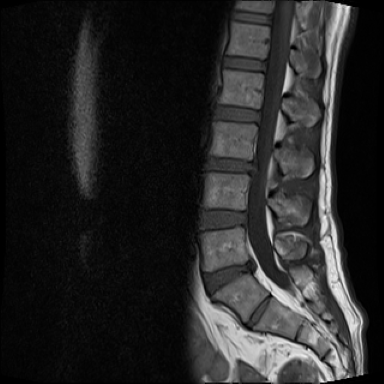Lumbar Disc Bulge (LDB): (192, 244, 262, 303), (200, 151, 273, 179)
Normal IVD: (192, 204, 251, 235), (206, 98, 264, 129), (219, 50, 268, 73), (227, 8, 274, 25)
Spinal Stenosis (SS): (239, 151, 272, 188), (236, 245, 263, 289)
